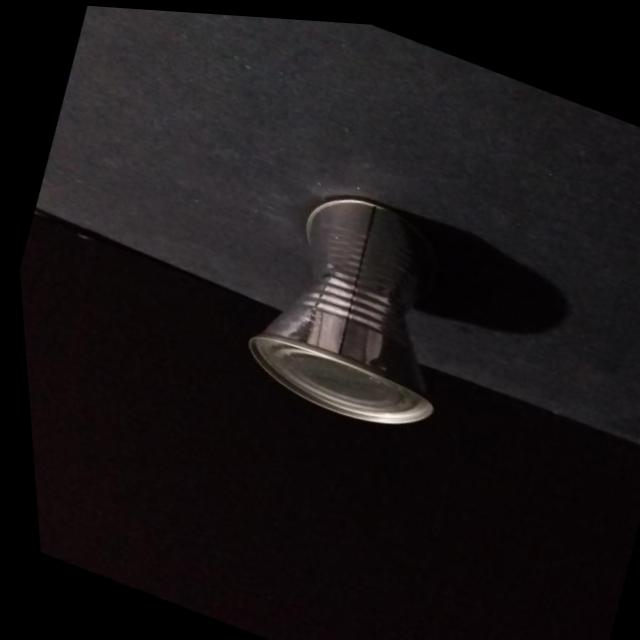metal: (220, 162, 501, 460)
